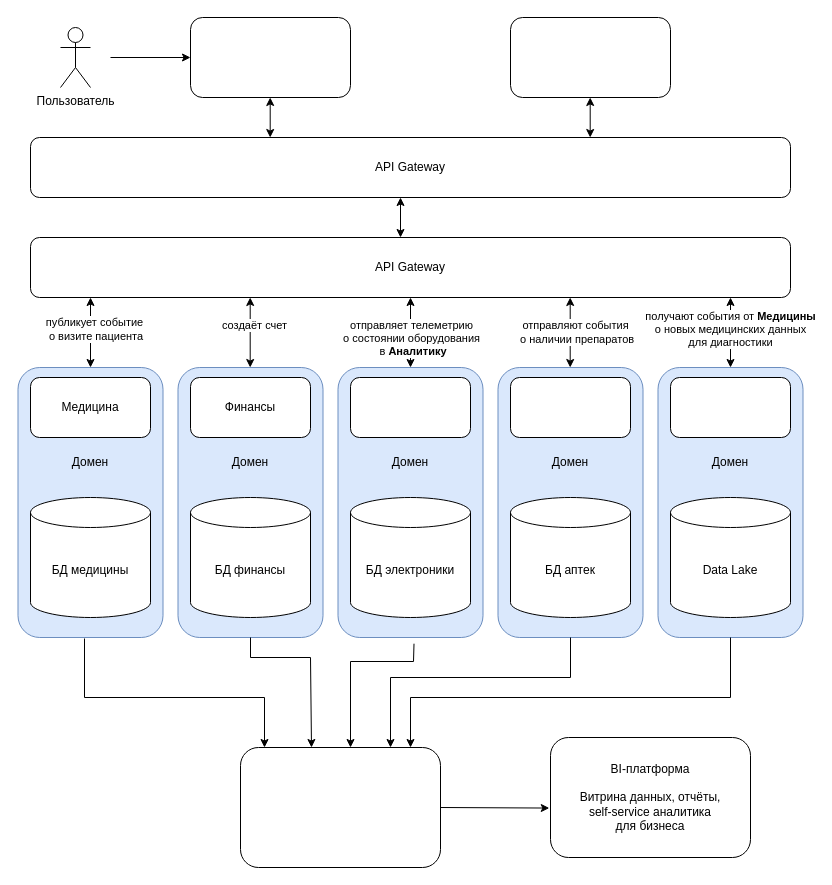
Some shapes in this 832 by 885 pixel diagram are drawn without their labels. Here are the shapes that lost their labels. From the top down, the centre of each, then its label:
point 270,57: Data Mart Portal
point 590,57: BI-платформа
point 410,407: Электроника
point 570,407: Аптеки
point 730,407: ИИ-сервисы
point 340,807: Новый DWH для Аналитики
